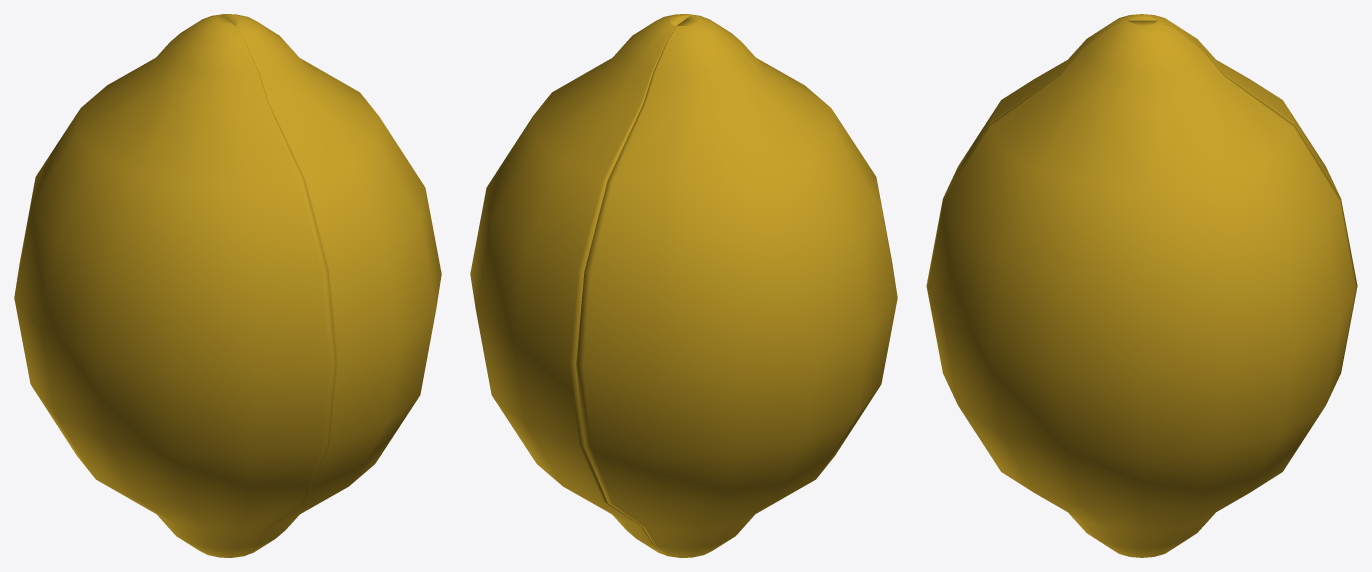
The model's file is SM_Lemon_01a.fbx.
3 renders of one model, left to right at view 1: azimuth 30°, elevation 25°; view 2: azimuth 150°, elevation 25°; view 3: azimuth 270°, elevation 25°, orthographic.
Parts seen in each view (by area): view 1: Lemon_02, Lemon_01; view 2: Lemon_02, Lemon_01; view 3: Lemon_01, Lemon_02.
Part boxes in pixels (x1,y1,x2,y2): Lemon_02: (14, 15, 335, 557); Lemon_01: (216, 14, 441, 555); Lemon_02: (576, 15, 897, 557); Lemon_01: (470, 14, 695, 555); Lemon_01: (926, 20, 1357, 557); Lemon_02: (944, 14, 1339, 196).
Size of the model in its own units: 18.52 by 25.17 by 18.52.
